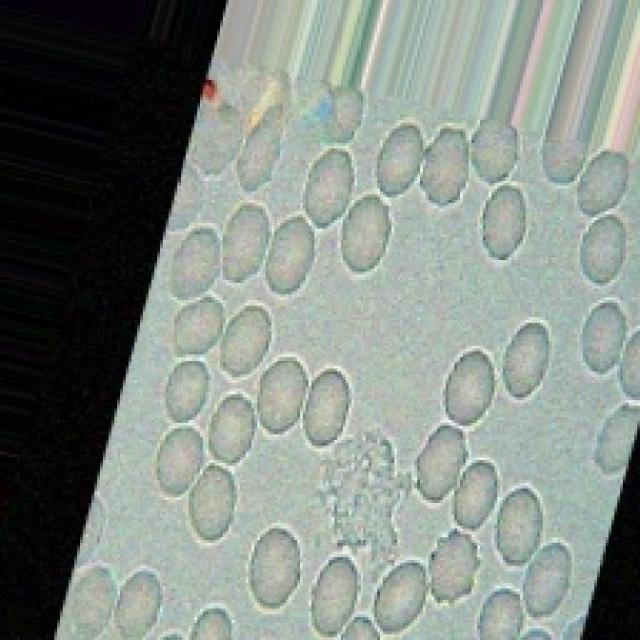Spherical_bacteria: (34, 57, 637, 637)
